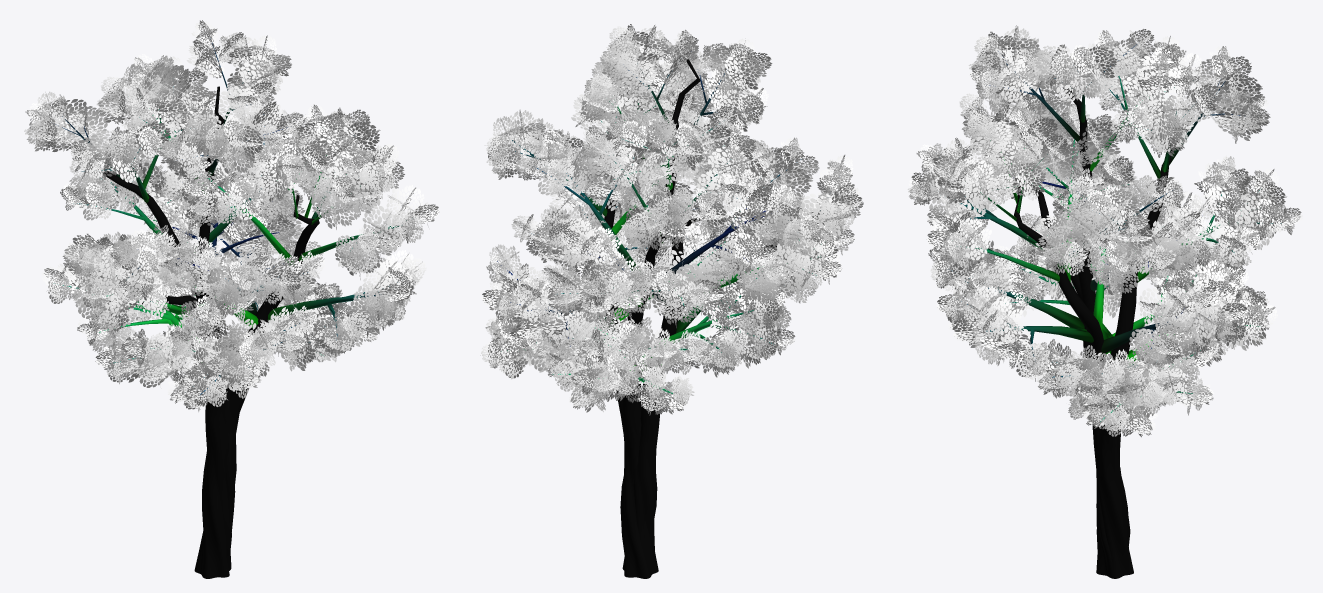
File: tree3re.fbx
3 views of the same model, side by side, from view 1: azimuth 30°, elevation 25°; view 2: azimuth 150°, elevation 25°; view 3: azimuth 270°, elevation 25° (orthographic). The views are drawn at different scales.
Parts seen in each view (by area): view 1: Tree_1, Tree_0; view 2: Tree_1, Tree_0; view 3: Tree_1, Tree_0.
Boxes of the visible parts, <box> form: Tree_1: <box>24,20,439,411</box>; Tree_0: <box>53,38,406,578</box>; Tree_1: <box>480,24,863,415</box>; Tree_0: <box>497,51,821,578</box>; Tree_1: <box>907,25,1302,437</box>; Tree_0: <box>949,44,1281,578</box>.
Size of the model in its own units: 414 by 592 by 398.
1 material, 1 textured.
